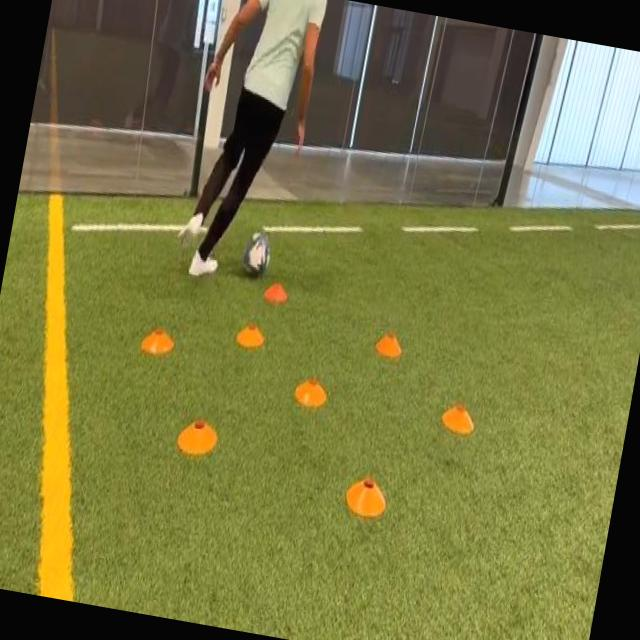Soccer Ball: (239, 228, 276, 286)
